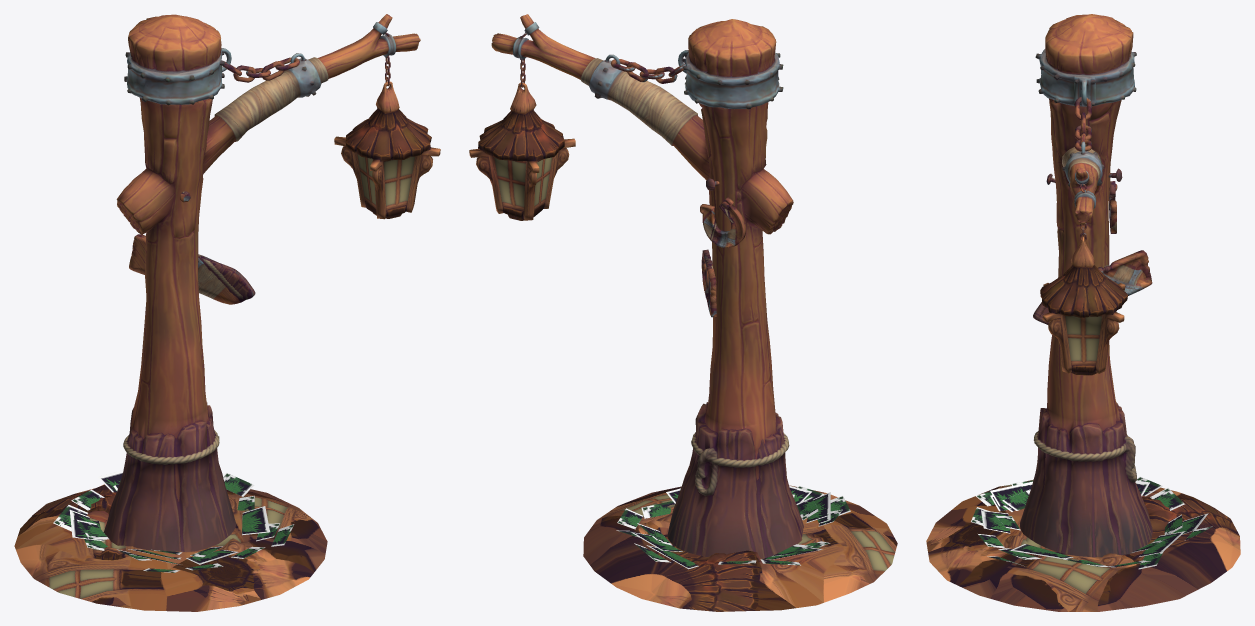
Rendered from LampPost.fbx.
3 views of the same model, side by side, from view 1: azimuth 30°, elevation 25°; view 2: azimuth 150°, elevation 25°; view 3: azimuth 270°, elevation 25° (orthographic).
Visible parts, largest first — view 1: LampPost_NewUV, Ground, Lantern, Grass, Sign, Chains; view 2: LampPost_NewUV, Ground, Lantern, Grass, Horseshoe, Chains, Sign; view 3: LampPost_NewUV, Ground, Lantern, Grass, Sign, Chains.
Part boxes in pixels (x1,y1,x2,y2): LampPost_NewUV: [103, 14, 420, 551]; Ground: [14, 484, 327, 611]; Lantern: [334, 81, 440, 219]; Grass: [53, 470, 294, 572]; Sign: [129, 234, 255, 304]; Chains: [223, 32, 390, 86]; LampPost_NewUV: [491, 14, 803, 558]; Ground: [583, 485, 897, 611]; Lantern: [469, 82, 575, 220]; Grass: [616, 474, 850, 569]; Horseshoe: [700, 197, 745, 247]; Chains: [520, 33, 685, 87]; Sign: [701, 249, 716, 317]; LampPost_NewUV: [1020, 14, 1152, 557]; Ground: [926, 479, 1240, 611]; Lantern: [1040, 237, 1127, 375]; Grass: [971, 476, 1212, 569]; Sign: [1033, 250, 1152, 324]; Chains: [1075, 97, 1091, 240].
Bounding box in the file's own units: 13.86 × 17.86 × 9.58.
